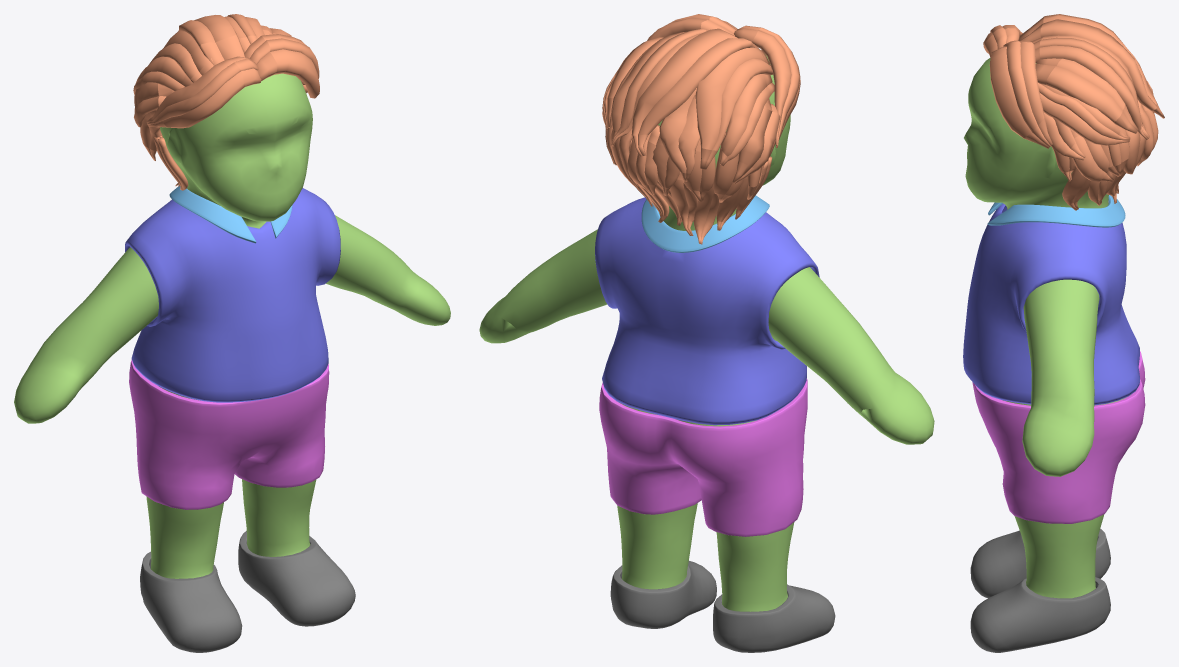
The model's file is Char.fbx.
3 renders of one model, left to right at view 1: azimuth 30°, elevation 25°; view 2: azimuth 150°, elevation 25°; view 3: azimuth 270°, elevation 25°, orthographic. The views are drawn at different scales.
Visible parts, largest first — view 1: Body, Shirt, Phants, Hair, Shoes, Cara; view 2: Shirt, Body, Hair, Phants, Shoes, Cara; view 3: Body, Hair, Shirt, Phants, Shoes, Cara.
Boxes of the visible parts, left/top/right/bottom form: Body: left=14, top=73, right=450, bottom=578; Shirt: left=125, top=188, right=340, bottom=402; Phants: left=129, top=359, right=329, bottom=509; Hair: left=133, top=14, right=319, bottom=190; Shoes: left=140, top=531, right=355, bottom=652; Cara: left=169, top=186, right=292, bottom=243; Shirt: left=595, top=197, right=819, bottom=425; Body: left=479, top=54, right=934, bottom=611; Hair: left=602, top=14, right=800, bottom=244; Phants: left=599, top=378, right=807, bottom=536; Shoes: left=610, top=561, right=835, bottom=652; Cara: left=641, top=195, right=769, bottom=252; Body: left=964, top=58, right=1126, bottom=598; Hair: left=983, top=14, right=1164, bottom=210; Shirt: left=963, top=200, right=1139, bottom=405; Phants: left=972, top=351, right=1145, bottom=523; Shoes: left=970, top=529, right=1110, bottom=652; Cara: left=987, top=195, right=1125, bottom=227.
Size of the model in its own units: 70.67 by 92.32 by 28.8.
